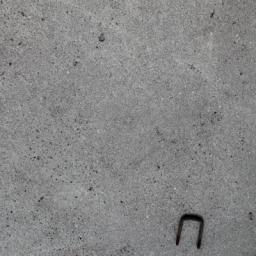FOD: (175, 210, 207, 255)
